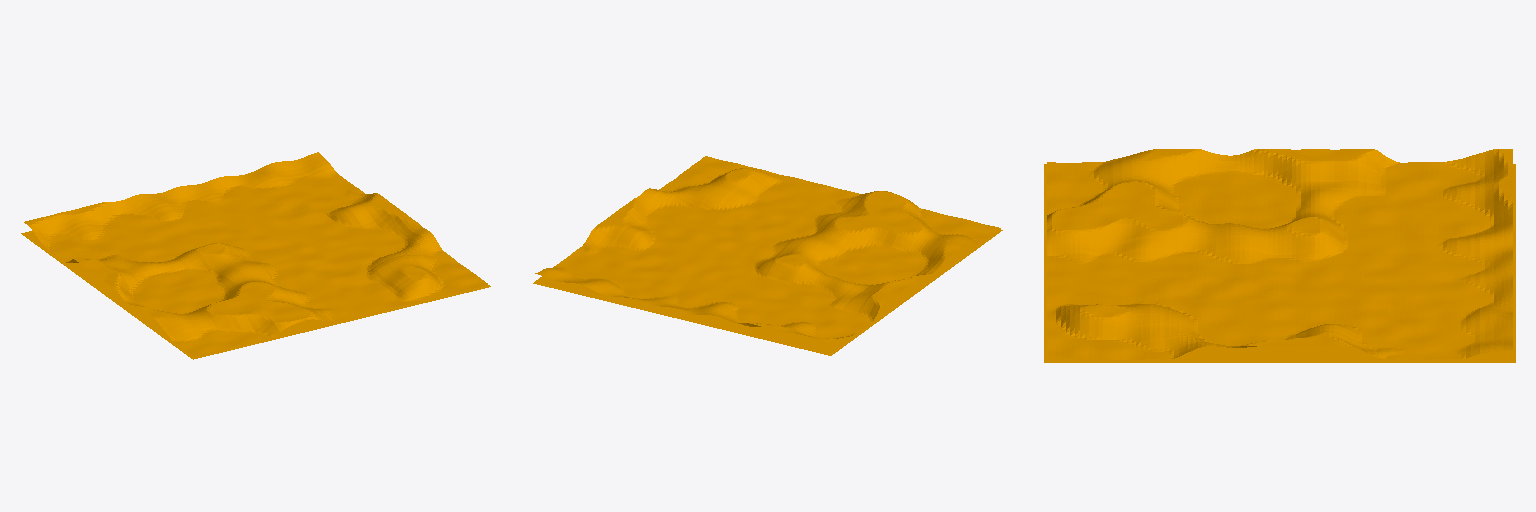
robot.urdf — cube.urdf:
<?xml version="1.0" ?>
<robot name="cube.urdf">
  <link concave="yes" name="baseLink">
    <inertial>
      <origin rpy="0 0 0" xyz="0 0 -2"/>
        <mass value=".0"/>
        <inertia ixx="0" ixy="0" ixz="0" iyy="0" iyz="0" izz="0"/>
    </inertial>
    <visual>
      <origin rpy="1.5707963 0 0" xyz="0 0 -2"/>
      <geometry>
				<mesh filename="unityexport.obj" scale="0.2 0.2 0.2"/>
      </geometry>
    </visual>
    <collision concave="yes">
      <origin rpy="1.5707963 0 0" xyz="0 0 -2"/>
      <geometry>
				<mesh filename="unityexport.obj" scale="0.2 0.2 0.2"/>
      </geometry>
    </collision>
    <inertial> 
    	<mass value="0"/>
        <inertia ixx="0" ixy="0" ixz="0" iyy="0" iyz="0" izz="0"/>
    </inertial> 
    <contact> 
        <lateral_friction value="4"/>
    </contact>
  </link>
</robot>

--- Facts derived from the render (not from the file) ---
Views: 3 orthographic renders of the robot side by side, from view 1: azimuth 30°, elevation 25°; view 2: azimuth 150°, elevation 25°; view 3: azimuth 270°, elevation 25°.
Model cube.urdf with 1 links and 0 joints (none), rooted at baseLink, posed every joint at zero.
Links seen in each view (by area): view 1: baseLink; view 2: baseLink; view 3: baseLink.
Boxes of the visible links, x1,y1,x2,y2 form: baseLink: (21, 152, 490, 359); baseLink: (533, 156, 1002, 355); baseLink: (1044, 149, 1515, 362).
Size in the robot's own frame: 200 by 200 by 7.97 metres.
1 mesh visuals loaded from 1 distinct referenced files (1 OBJ).